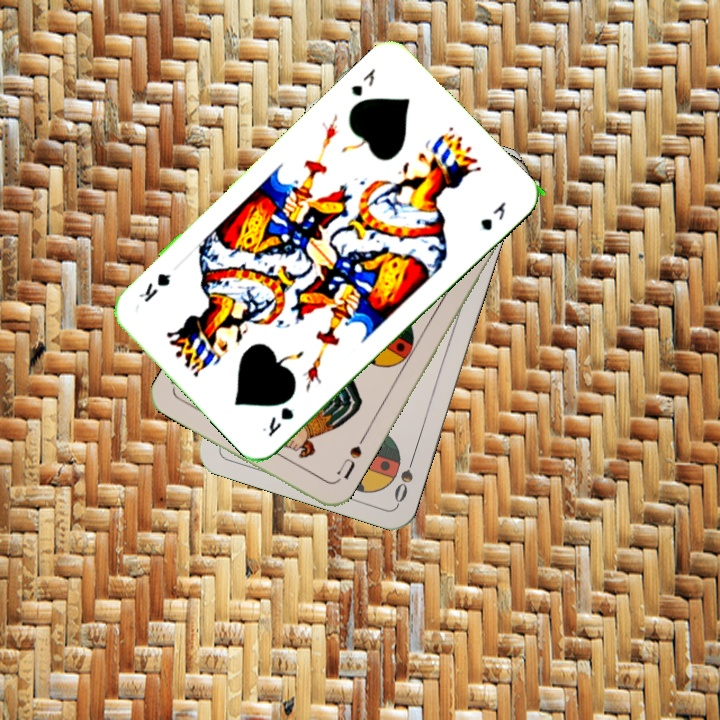GK: (257, 403, 297, 439), (347, 64, 378, 99)
SO: (390, 448, 419, 506)
SU: (333, 441, 364, 482)
